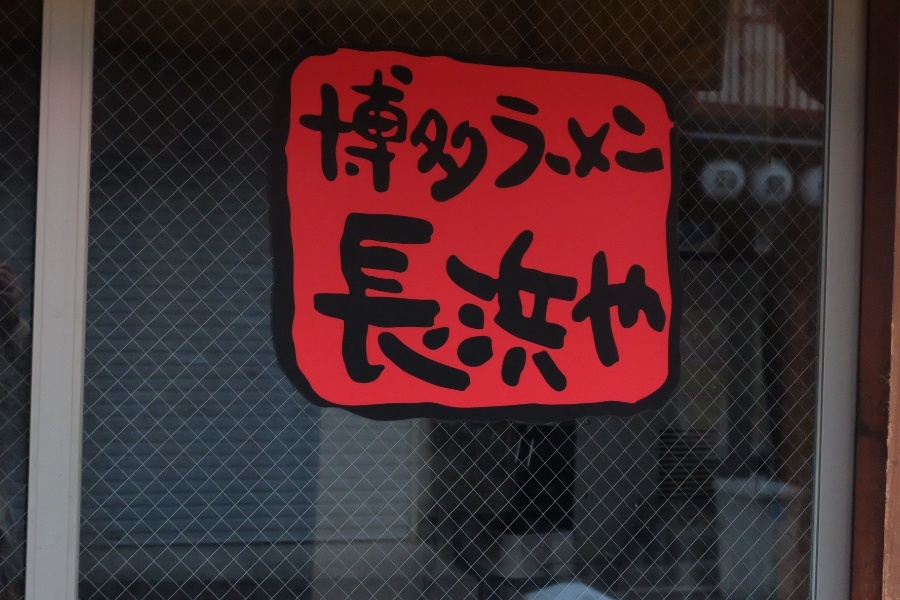text: (321, 210, 336, 400), (337, 210, 352, 400), (353, 210, 368, 400), (369, 210, 384, 400), (385, 210, 400, 400), (401, 210, 416, 400), (417, 210, 432, 400), (433, 210, 448, 400), (449, 210, 464, 400), (465, 210, 480, 400), (481, 210, 496, 400), (497, 210, 512, 400), (513, 210, 528, 400), (529, 210, 544, 400), (545, 210, 560, 400), (561, 210, 576, 400), (577, 210, 592, 400), (593, 210, 608, 400), (609, 210, 624, 400), (625, 210, 640, 400), (641, 210, 656, 400), (657, 58, 673, 210), (321, 58, 336, 210), (337, 58, 352, 210), (353, 58, 368, 210), (369, 58, 384, 210), (385, 58, 400, 210), (401, 58, 416, 210), (417, 58, 432, 210), (433, 58, 448, 210), (449, 58, 464, 210), (465, 58, 480, 210), (481, 58, 496, 210), (497, 58, 512, 210), (513, 58, 528, 210), (529, 58, 544, 210), (545, 58, 560, 210), (561, 58, 576, 210), (577, 58, 592, 210), (593, 58, 608, 210), (609, 58, 624, 210), (625, 58, 640, 210), (641, 58, 656, 210), (307, 58, 320, 210), (657, 210, 666, 400), (314, 210, 320, 400)
